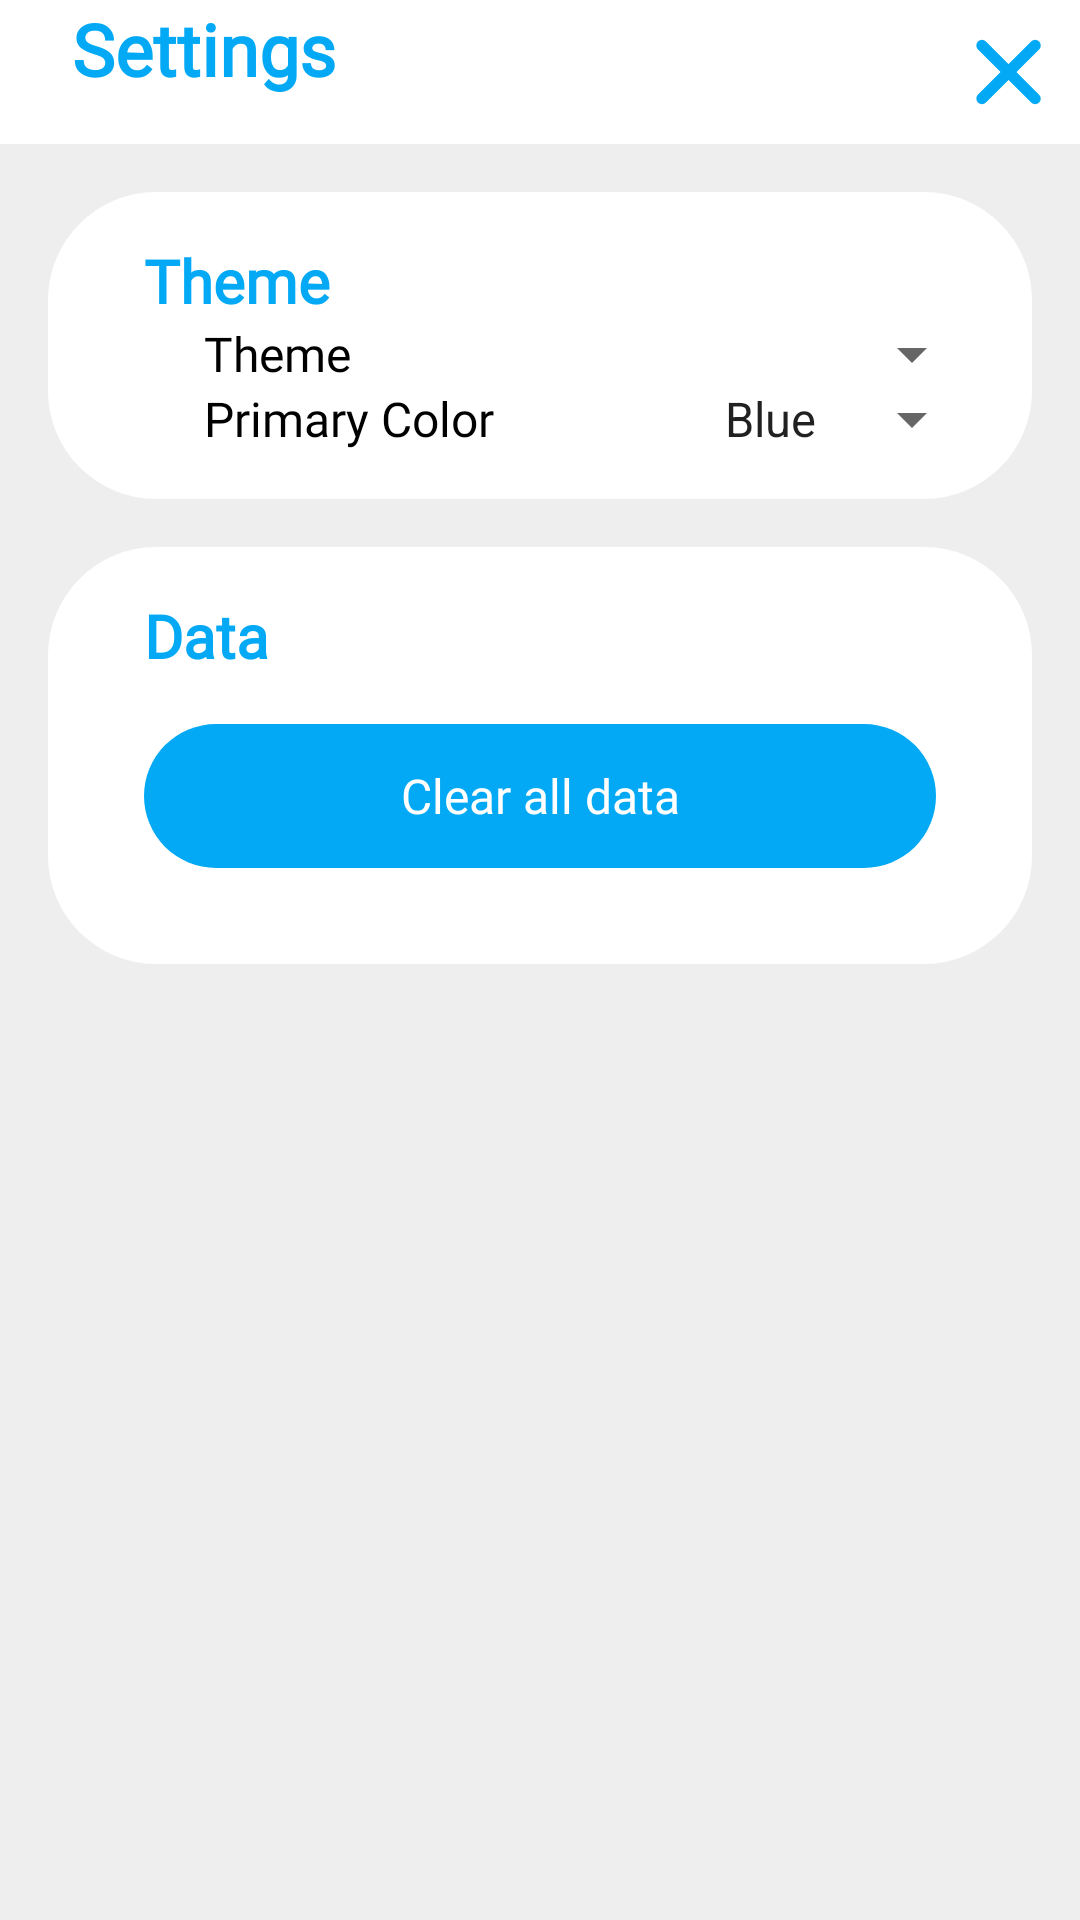

Icons on this 1080 × 1920 Android screen, each with its box as (x1, y1, x2, y2):
close: (976, 39, 1041, 105)
